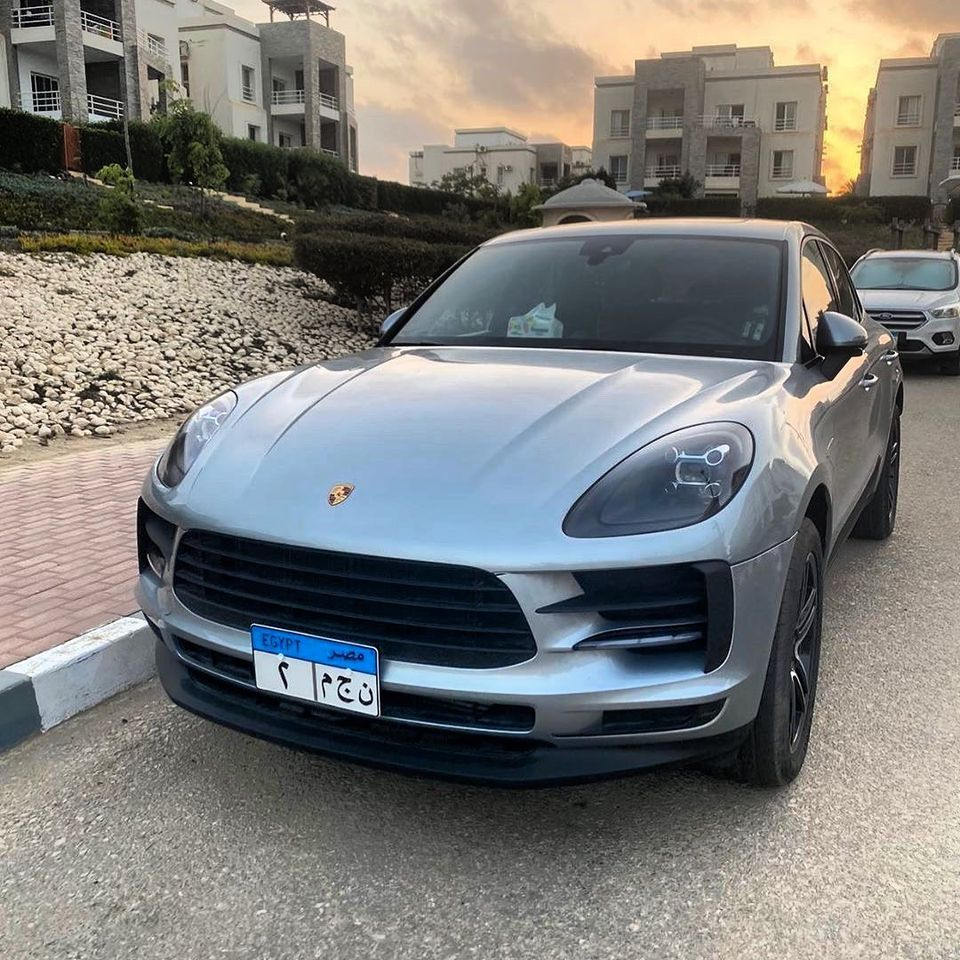carpl: (242, 640, 386, 717)
